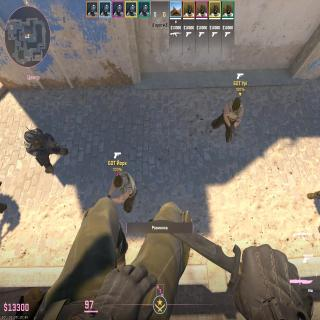CT-Body: (23, 128, 54, 174)
CT-Head: (24, 131, 40, 146)
T-Body: (220, 97, 244, 144), (113, 171, 137, 213)
T-Head: (114, 175, 124, 188), (233, 97, 242, 110)
